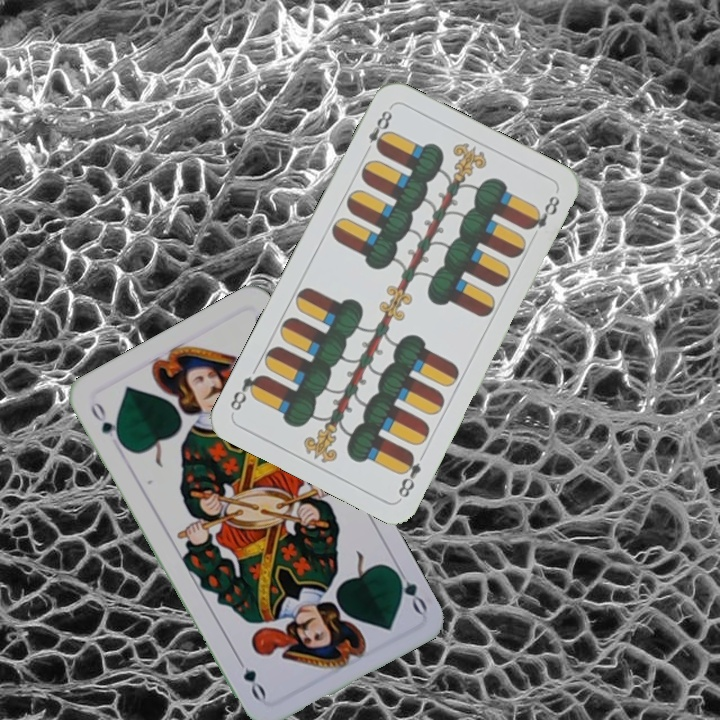E8: (360, 103, 395, 158), (394, 447, 424, 501)
GO: (388, 561, 430, 617), (86, 397, 126, 449)
